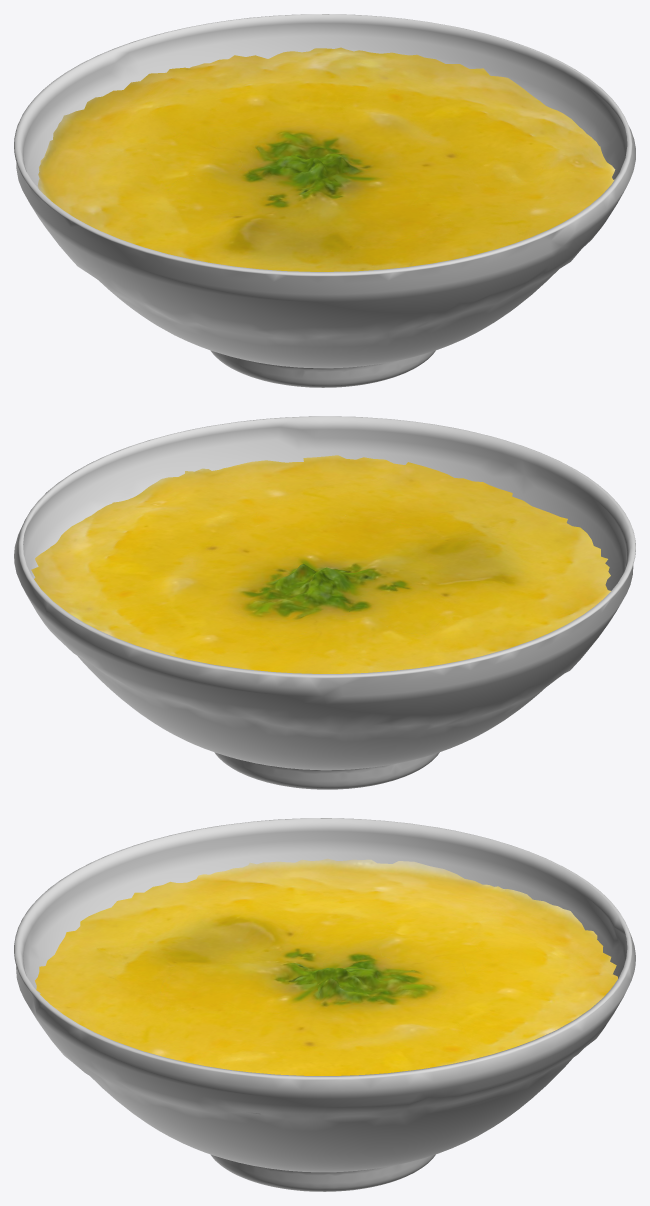
File: SopaDoDia.glb
The picture shows the model from 3 angles, top to bottom: view 1: azimuth 30°, elevation 25°; view 2: azimuth 150°, elevation 25°; view 3: azimuth 270°, elevation 25°; orthographic projection.
Parts seen in each view (by area): view 1: Mesh_0, Bowl_Mesh; view 2: Mesh_0, Bowl_Mesh; view 3: Mesh_0, Bowl_Mesh.
Boxes of the visible parts, box(x1,y1,x2,y2) form: Mesh_0: box(37, 47, 615, 271); Bowl_Mesh: box(14, 14, 635, 387); Mesh_0: box(31, 455, 610, 673); Bowl_Mesh: box(14, 416, 635, 789); Mesh_0: box(35, 858, 617, 1075); Bowl_Mesh: box(14, 818, 635, 1191).
Bounding box in the file's own units: 0.0926 × 0.0326 × 0.0926.
2 materials, 1 textured.
